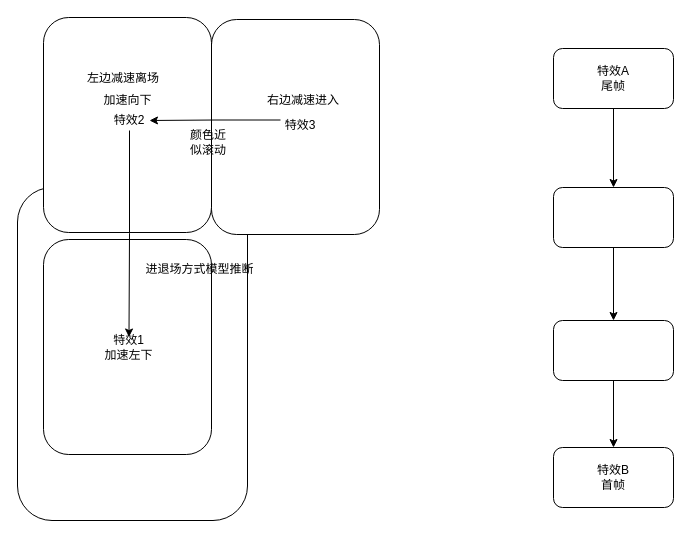
This 691x538 diagram has some shape labels left out. The centre of each missing label's shape, as x and y in pixels:
离场特效: (613,217)
进场特效: (613,350)
